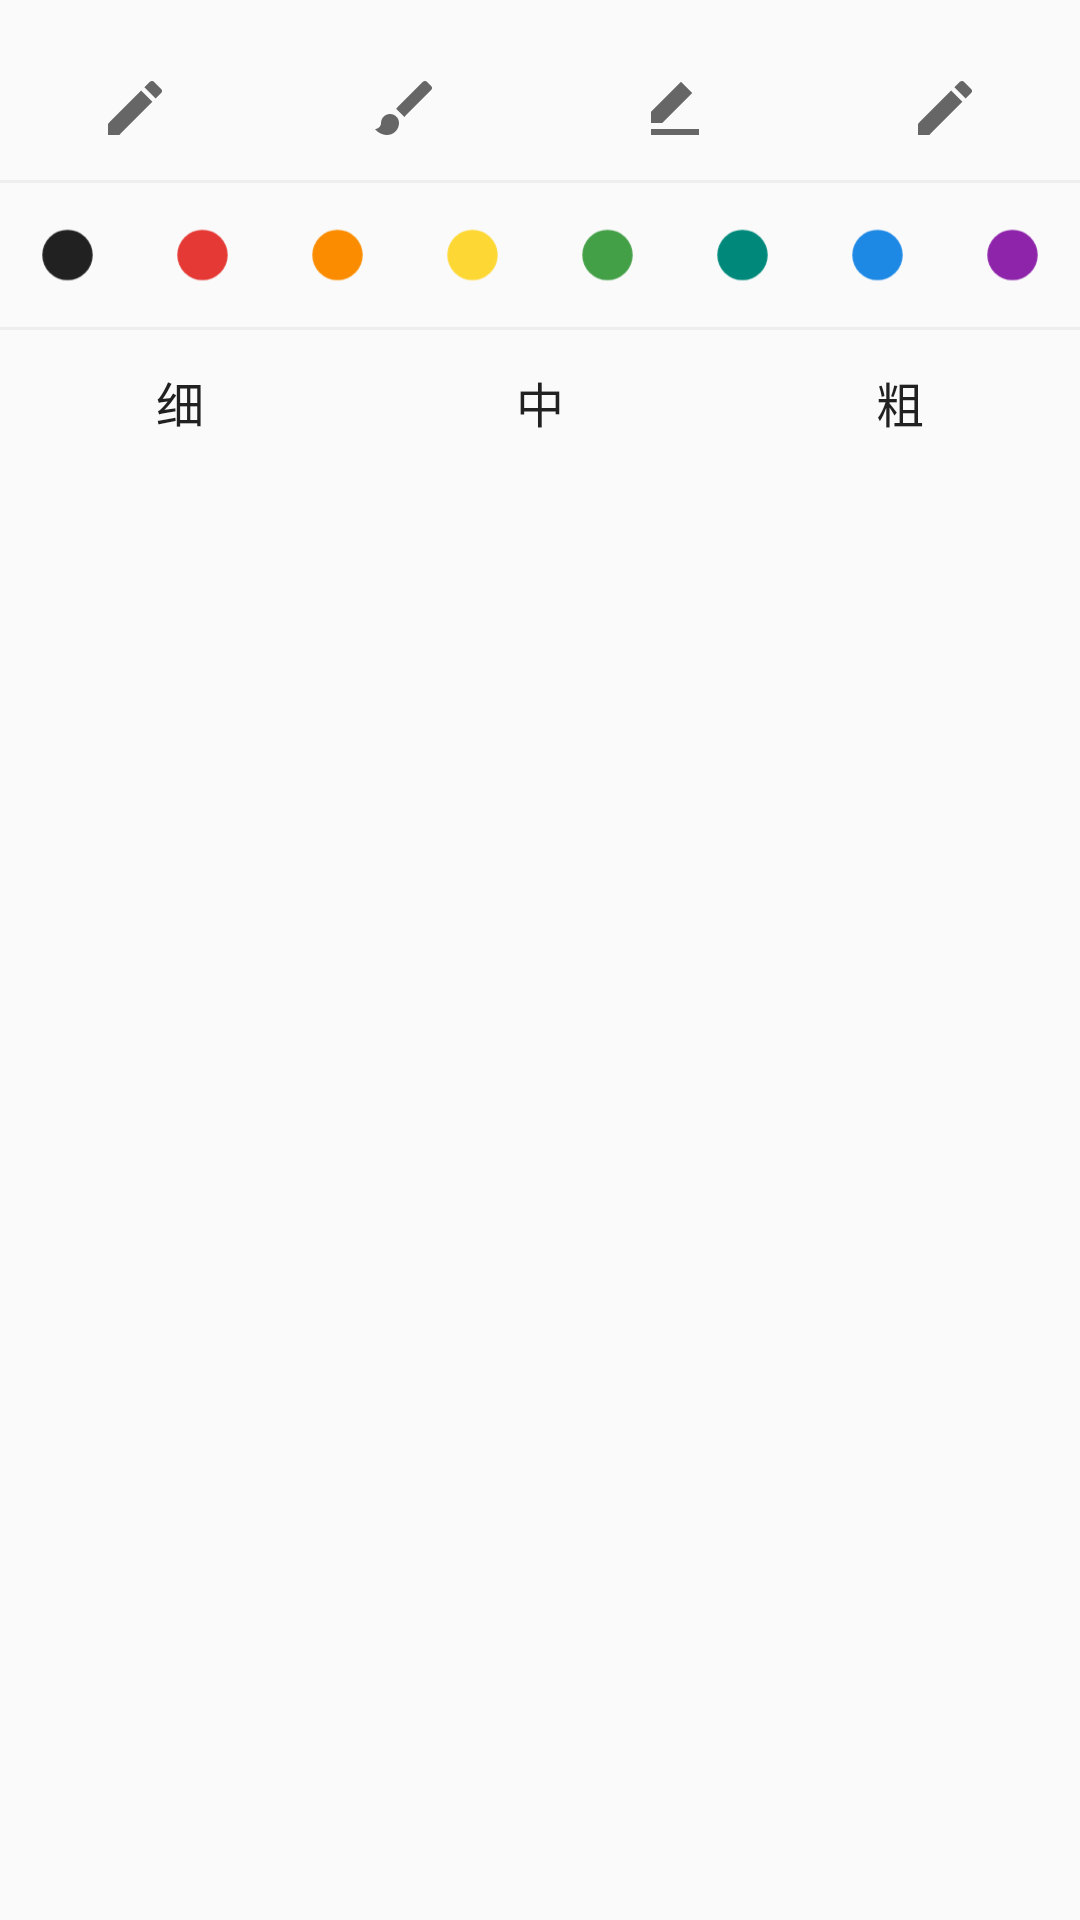

Locate icon controls on the screen. Image size 1080w x 1920h, boxes as bbox=[x1, y1, x2, y2].
画笔: bbox=[375, 81, 432, 135]
马克笔: bbox=[651, 82, 699, 135]
